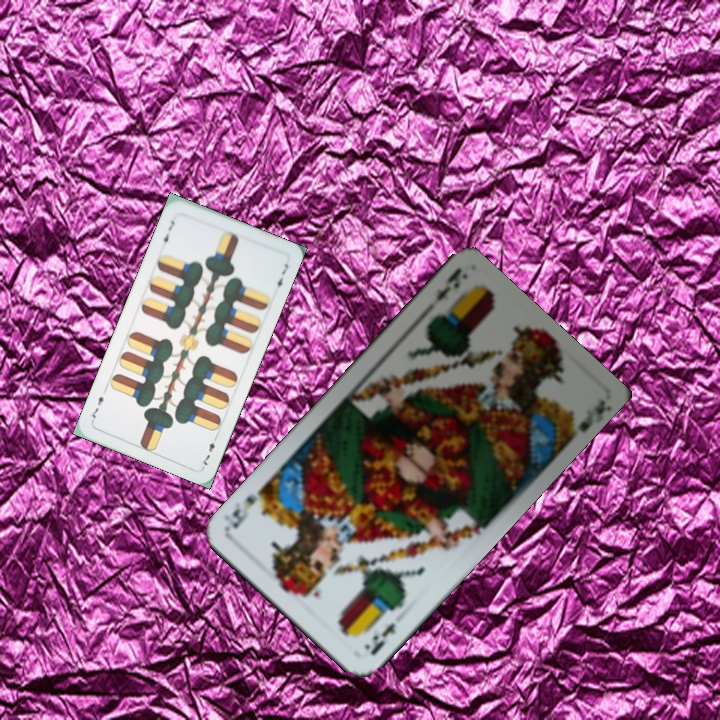E7: (199, 430, 221, 469), (157, 216, 177, 249)
EK: (432, 265, 464, 304), (367, 619, 398, 659)
